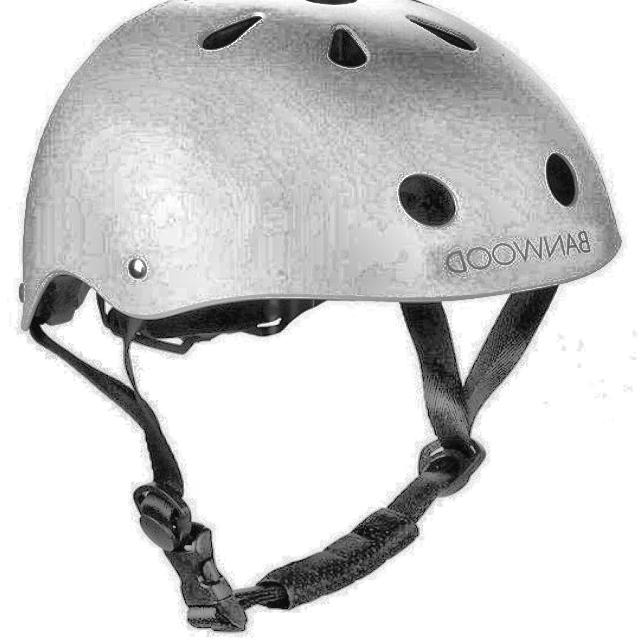Helmet: (16, 0, 625, 634)
